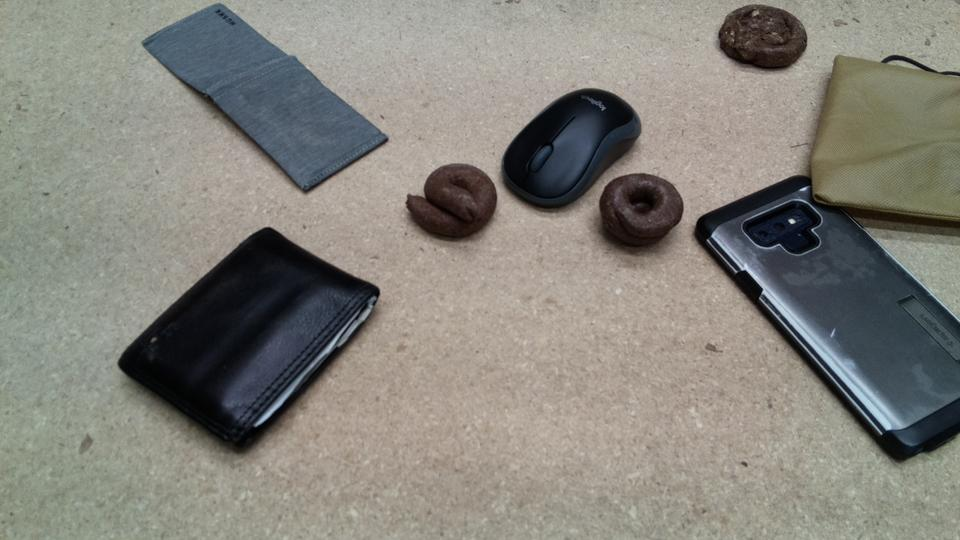poop: (403, 162, 497, 244), (597, 170, 686, 249), (715, 2, 811, 73)
